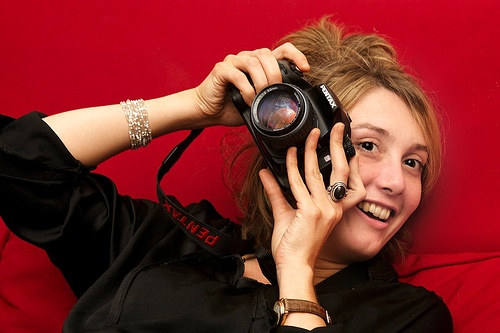head: (300, 68, 432, 260)
person: (1, 22, 500, 333)
